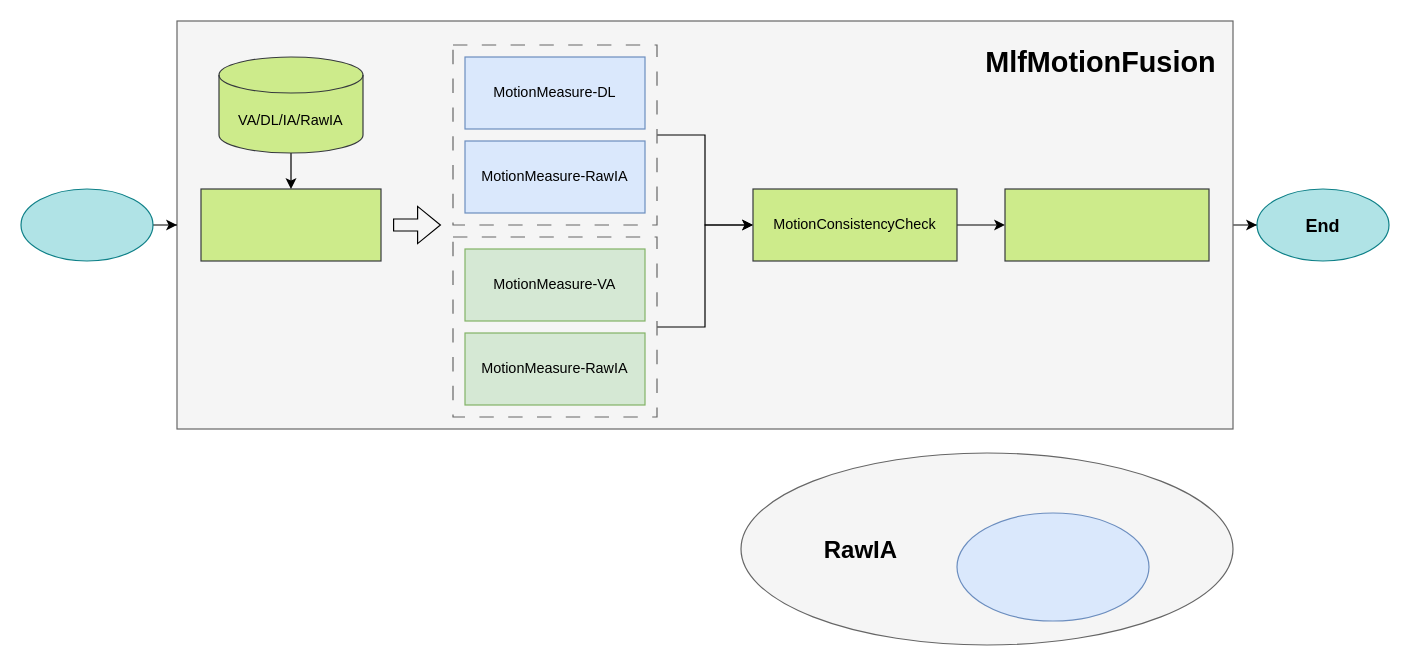
Image size: 1410x666. Some labels were removed from this diagram. The shapes that lost their labels are listed below. From the top down, each one's centre as x and y in pixels, then its label:
At point 86,224: "Start".
At point 290,224: "MotionMeasurements".
At point 1106,224: "MotionCorrection".
At point 1052,566: "IA".
